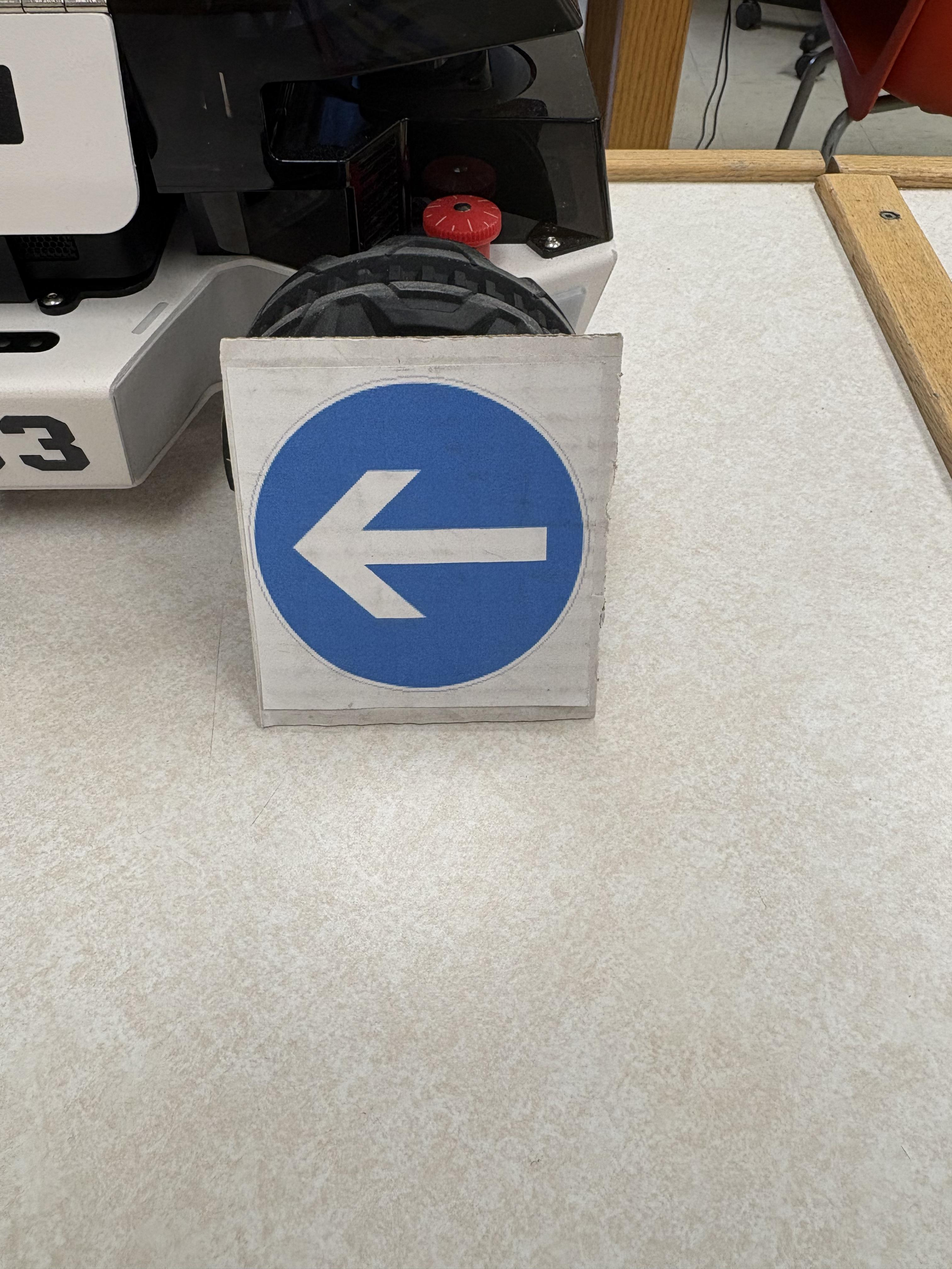Proceed Left: (163, 453, 467, 969)
